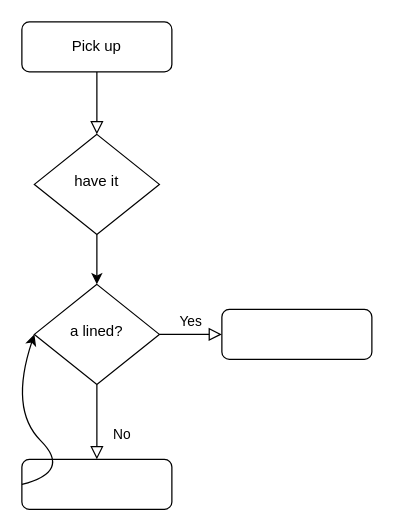
This 394x531 diagram has some shape labels left out. Here are the shapes that lost their labels. From the top down, the box of each, then its label:
(221, 308, 372, 359): Solid
(21, 458, 172, 509): Blink
